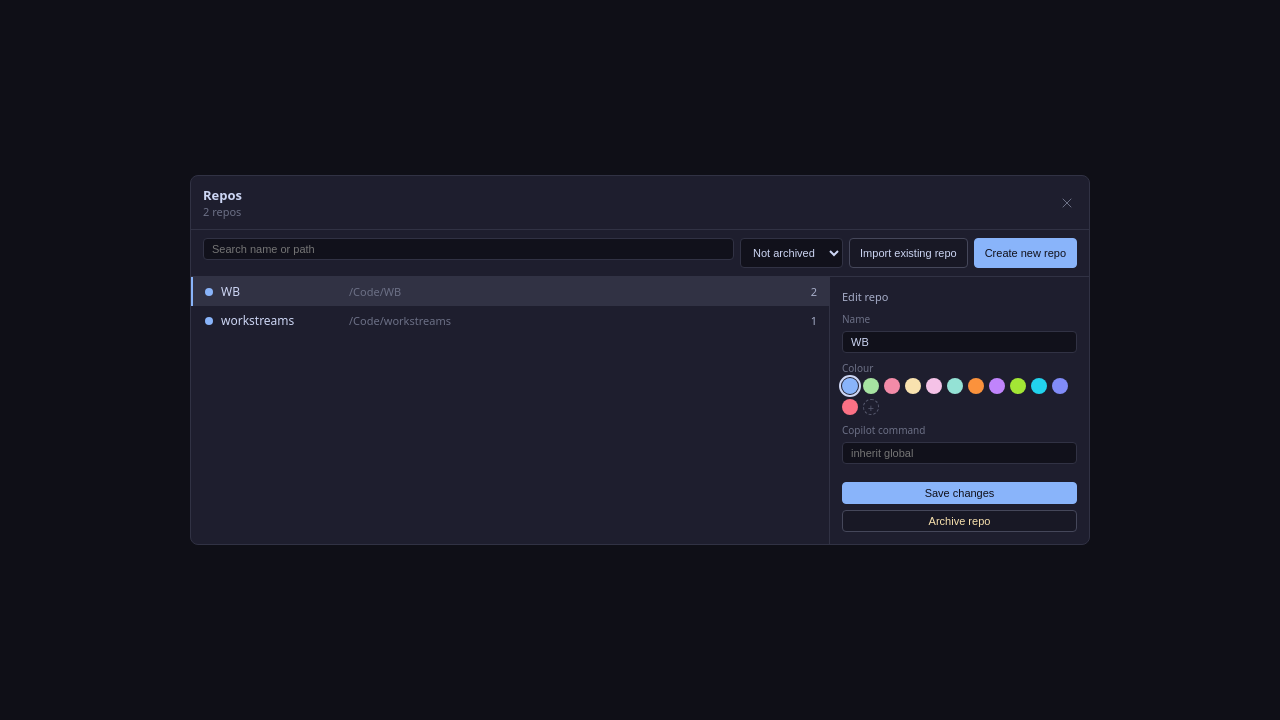
Test: RepoManagerModal › selecting a repo loads it into the edit form
What coordinates should you click on to do the following:
click the button with test id "repo-manager-row-p2"
I would click on:
 (258, 320)
Its box is [205,312,817,329].
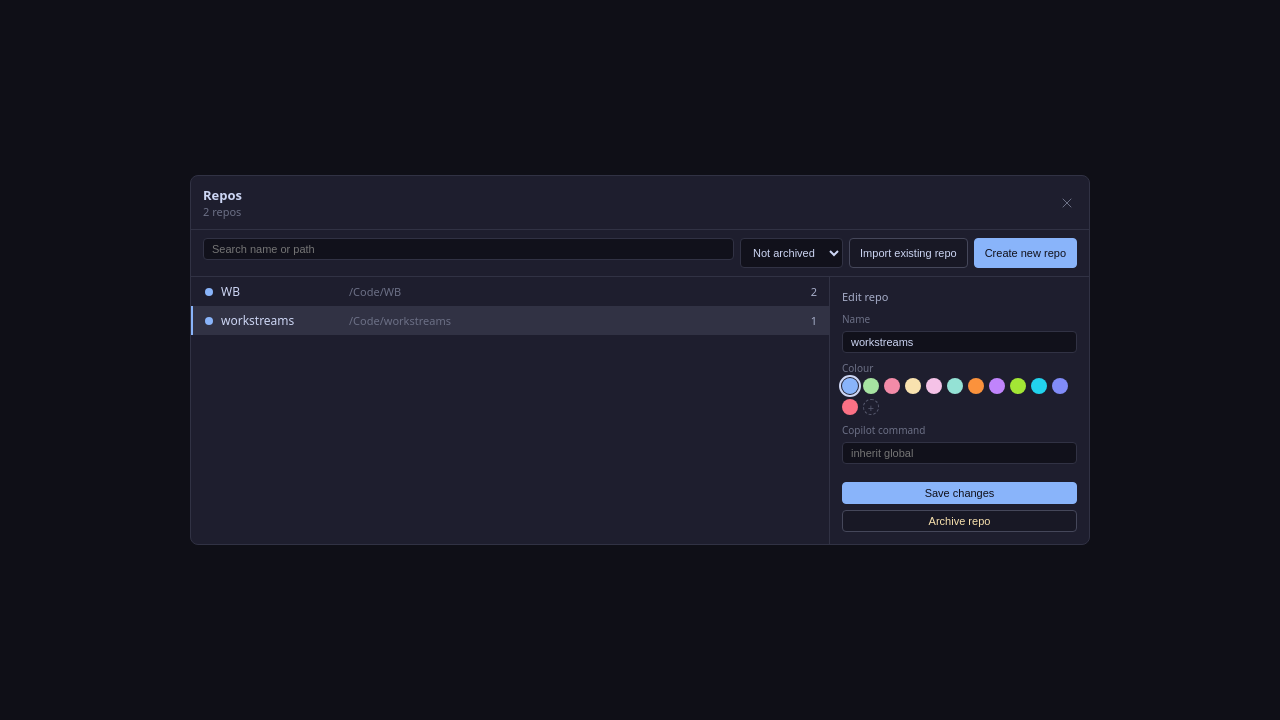
Result: the field with test id "repo-manager-name" holds "workstreams" at [842,331,1077,353]
